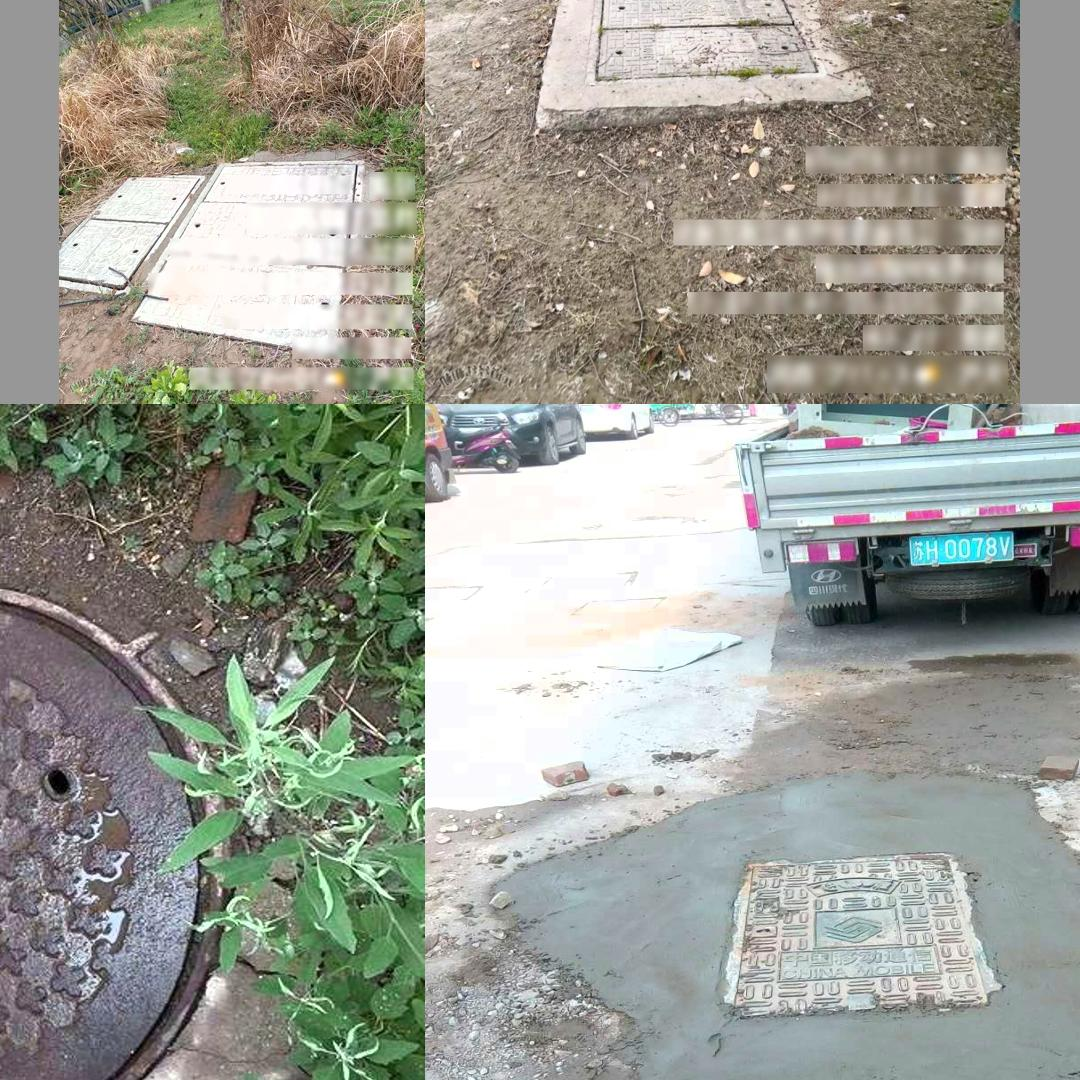good: (0, 577, 236, 1080), (721, 852, 995, 1022), (128, 159, 366, 353), (59, 174, 203, 295)
uncovered: (585, 0, 828, 88)
